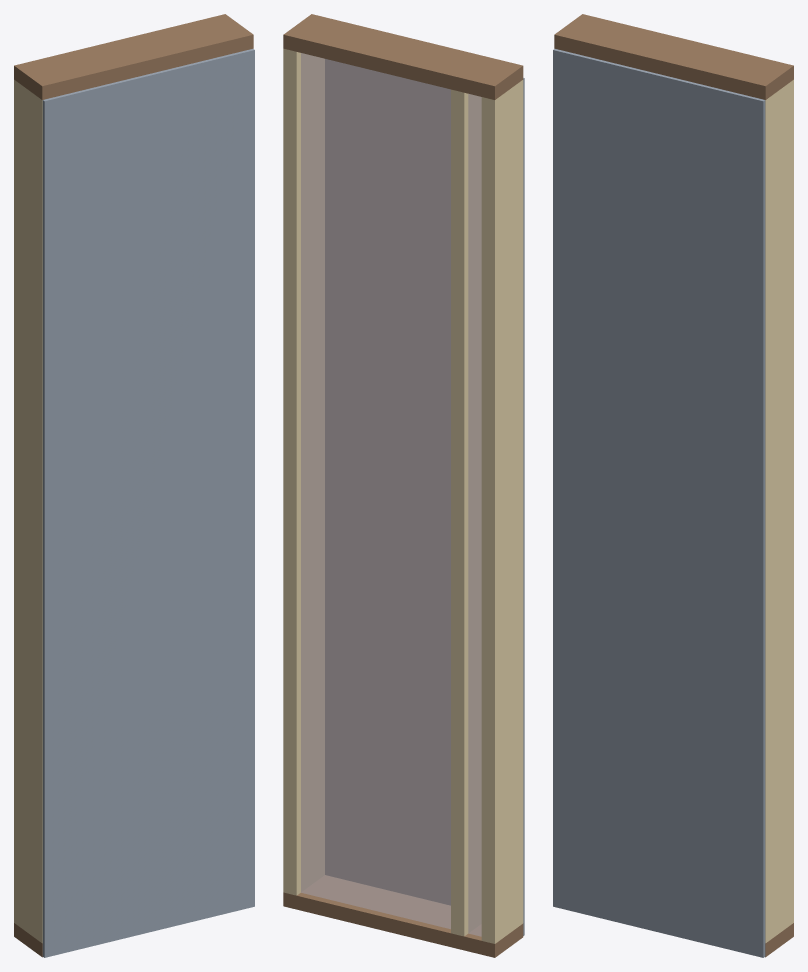
3 views of the same model, side by side, from view 1: azimuth 30°, elevation 25°; view 2: azimuth 150°, elevation 25°; view 3: azimuth 330°, elevation 25° (orthographic).
Parts seen in each view (by area): view 1: EX17 FF; view 2: EX17 FF; view 3: EX17 FF.
Boxes of the visible parts, x1=… form: EX17 FF: x1=14, y1=14, x2=254, y2=957; EX17 FF: x1=283, y1=14, x2=524, y2=957; EX17 FF: x1=553, y1=14, x2=793, y2=957.
Bounding box in the file's own units: 0.605 × 2.38 × 0.149.
